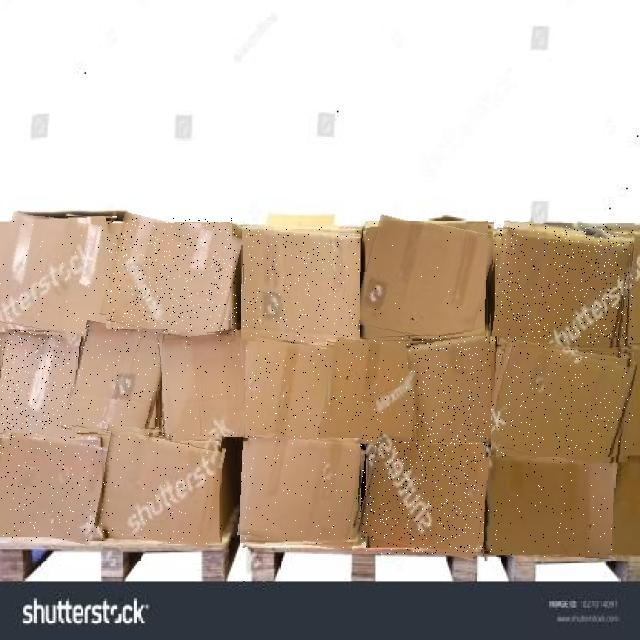BoxFace: (491, 342, 634, 463), (495, 224, 633, 348), (360, 221, 494, 345), (106, 218, 237, 340), (361, 437, 491, 554), (0, 216, 117, 338), (241, 226, 362, 342), (98, 431, 222, 544), (240, 438, 363, 548), (484, 457, 616, 557), (0, 433, 104, 541), (72, 329, 168, 439), (327, 337, 415, 446), (245, 337, 332, 445), (410, 336, 498, 442), (162, 332, 250, 437), (0, 330, 82, 438)
